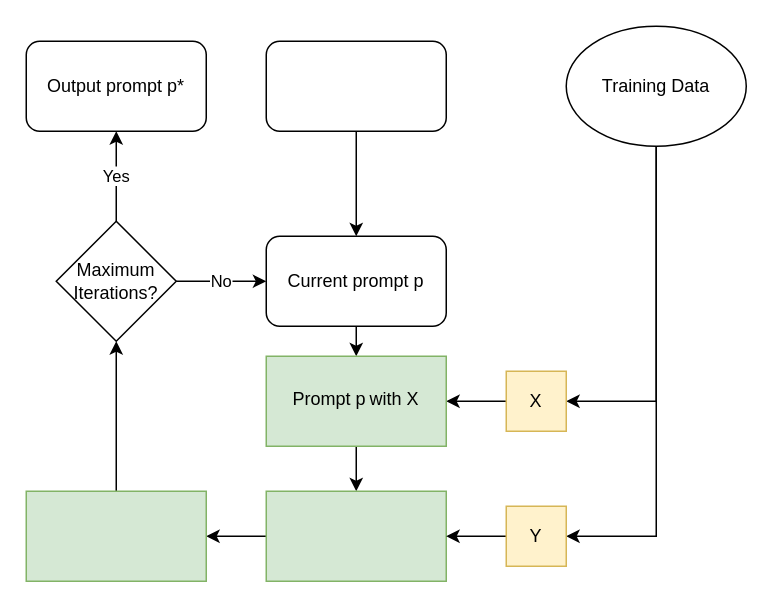
The diagram is 773 pixels wide and 608 high, and some of its shapes have lost their labels. Here are the shapes that lost their labels. From the top down, the centre of each, then its label:
At point 355,85: "Initial Prompt p 0".
At point 115,535: "Optimize p".
At point 355,535: "Whats wrong with the prompt, expecting Y".
